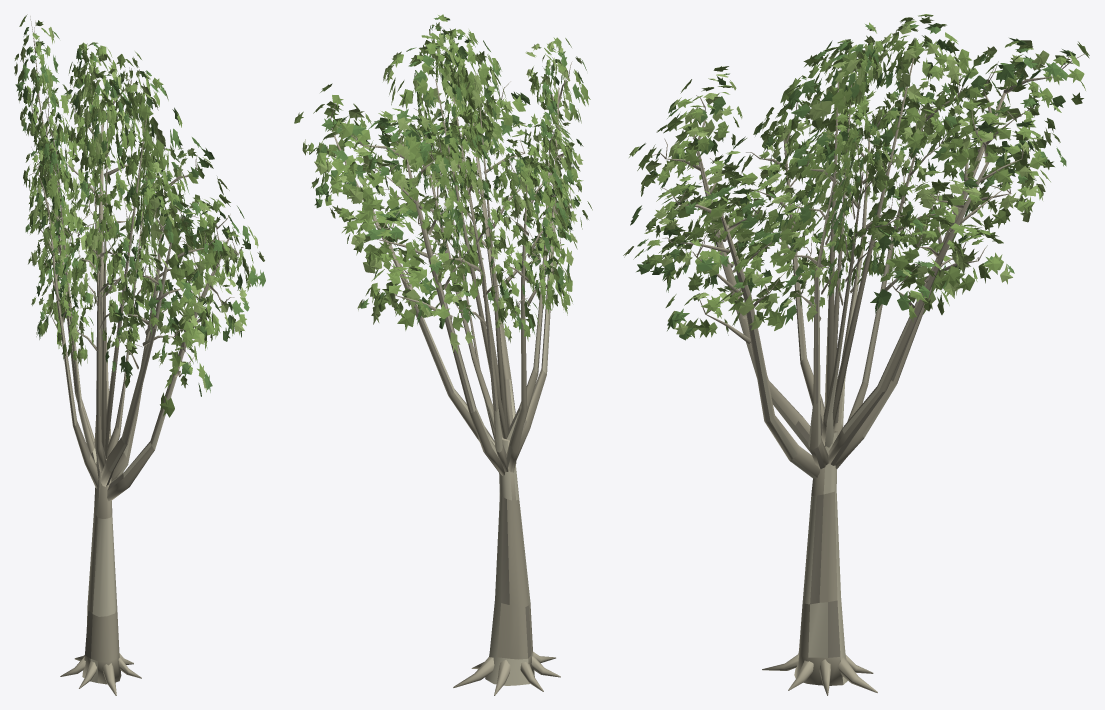
The picture shows the model from 3 angles, left to right: view 1: azimuth 30°, elevation 25°; view 2: azimuth 150°, elevation 25°; view 3: azimuth 270°, elevation 25°; orthographic projection. The views are drawn at different scales.
Visible parts, largest first — view 1: tree_plane_b_PlaneLeaf, tree_plane_b_PlaneBark, tree_plane_b_PlaneLeafDark, tree_plane_b_PlaneLeafLight, tree_plane_b_PlaneBarkPale, tree_plane_b_PlaneBarkBrown; view 2: tree_plane_b_PlaneLeaf, tree_plane_b_PlaneBark, tree_plane_b_PlaneLeafLight, tree_plane_b_PlaneLeafDark, tree_plane_b_PlaneBarkPale, tree_plane_b_PlaneBarkBrown; view 3: tree_plane_b_PlaneLeaf, tree_plane_b_PlaneBark, tree_plane_b_PlaneLeafLight, tree_plane_b_PlaneLeafDark, tree_plane_b_PlaneBarkPale, tree_plane_b_PlaneBarkBrown.
Part boxes in pixels (x1=…): tree_plane_b_PlaneLeaf: x1=14, y1=14, x2=258, y2=417; tree_plane_b_PlaneBark: x1=28, y1=16, x2=243, y2=695; tree_plane_b_PlaneLeafDark: x1=15, y1=27, x2=265, y2=396; tree_plane_b_PlaneLeafLight: x1=14, y1=27, x2=264, y2=392; tree_plane_b_PlaneBarkPale: x1=38, y1=94, x2=229, y2=682; tree_plane_b_PlaneBarkBrown: x1=58, y1=235, x2=171, y2=658; tree_plane_b_PlaneLeaf: x1=294, y1=14, x2=592, y2=341; tree_plane_b_PlaneBark: x1=330, y1=61, x2=572, y2=695; tree_plane_b_PlaneLeafLight: x1=302, y1=24, x2=583, y2=354; tree_plane_b_PlaneLeafDark: x1=314, y1=17, x2=586, y2=334; tree_plane_b_PlaneBarkPale: x1=345, y1=123, x2=555, y2=685; tree_plane_b_PlaneBarkBrown: x1=400, y1=167, x2=546, y2=658; tree_plane_b_PlaneLeaf: x1=629, y1=14, x2=1089, y2=338; tree_plane_b_PlaneBark: x1=649, y1=51, x2=1087, y2=695; tree_plane_b_PlaneLeafLight: x1=623, y1=24, x2=1051, y2=334; tree_plane_b_PlaneLeafDark: x1=630, y1=23, x2=1075, y2=340; tree_plane_b_PlaneBarkPale: x1=693, y1=135, x2=989, y2=684; tree_plane_b_PlaneBarkBrown: x1=693, y1=94, x2=1005, y2=657.
Size of the model in its own units: 5.56 by 18.85 by 11.75.
